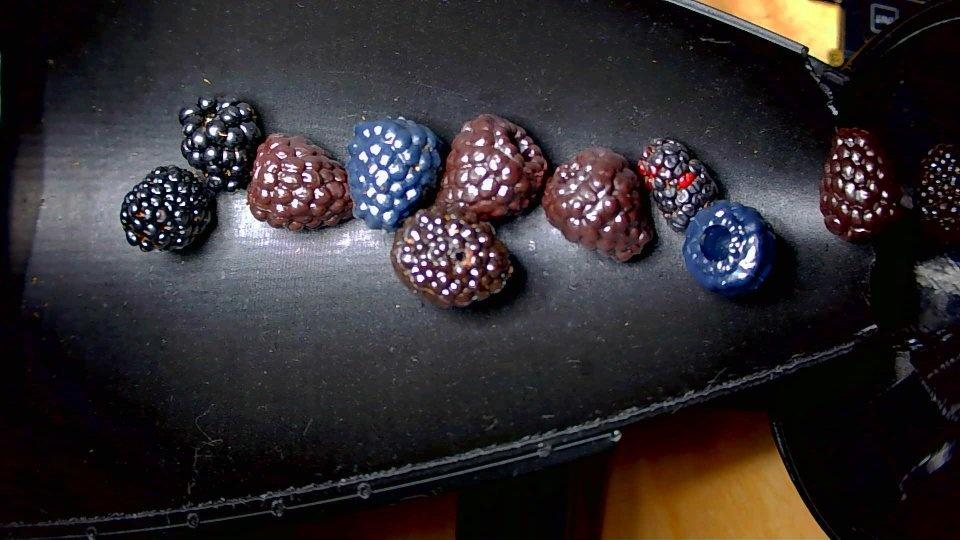berry: (541, 148, 652, 261), (434, 114, 547, 220), (391, 210, 513, 307), (346, 117, 441, 230), (247, 133, 352, 230), (820, 130, 902, 239), (685, 200, 775, 295), (180, 96, 263, 192), (120, 166, 213, 251), (638, 139, 717, 231), (916, 145, 959, 240)
